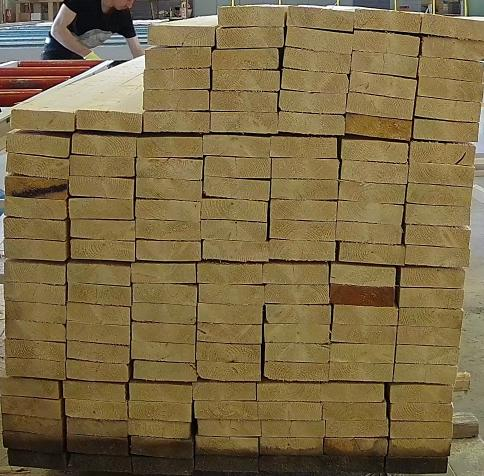Wood-Plank: (286, 27, 352, 54), (347, 93, 415, 119), (351, 72, 416, 99), (288, 5, 355, 31), (354, 30, 421, 56), (347, 114, 413, 140), (7, 129, 68, 157), (353, 51, 417, 77), (411, 141, 477, 166), (285, 47, 350, 72), (356, 8, 421, 33), (420, 76, 482, 102), (76, 109, 143, 133), (72, 133, 136, 158), (342, 139, 408, 163), (417, 97, 480, 122), (283, 68, 348, 92), (422, 14, 484, 39), (4, 218, 68, 242), (337, 221, 401, 245), (423, 36, 484, 61), (343, 161, 409, 184), (202, 199, 268, 222), (205, 156, 271, 179), (149, 23, 215, 46), (280, 91, 346, 114), (415, 118, 478, 142), (4, 260, 64, 285), (340, 242, 405, 265), (341, 181, 406, 204), (67, 262, 129, 286), (11, 108, 73, 132), (136, 158, 203, 180), (5, 196, 66, 220), (421, 57, 482, 81), (270, 239, 336, 261), (201, 220, 267, 242), (136, 178, 202, 200), (204, 178, 270, 200), (273, 158, 339, 180), (218, 6, 287, 27), (407, 227, 472, 249), (6, 155, 68, 178), (407, 246, 471, 268), (70, 239, 134, 261), (4, 240, 68, 262), (69, 177, 133, 199), (271, 200, 338, 221), (203, 137, 270, 158), (213, 48, 280, 69), (132, 303, 195, 325), (332, 265, 395, 287), (409, 184, 472, 206), (411, 164, 474, 186), (339, 202, 402, 224), (5, 177, 68, 199), (272, 137, 338, 158), (144, 112, 210, 133), (144, 90, 210, 111), (144, 68, 210, 89), (146, 48, 212, 69), (331, 286, 396, 307), (197, 263, 262, 284), (136, 200, 201, 221), (68, 198, 133, 219), (70, 156, 135, 177), (137, 136, 202, 157), (280, 113, 345, 134), (211, 112, 276, 133), (68, 284, 130, 306), (217, 28, 285, 48), (213, 70, 281, 90), (133, 361, 197, 382), (197, 343, 261, 364), (197, 323, 261, 344), (407, 206, 471, 227), (63, 381, 126, 402), (131, 342, 194, 363), (132, 324, 195, 345), (67, 324, 130, 345), (67, 305, 130, 326), (0, 378, 60, 400), (5, 302, 65, 324), (4, 284, 64, 306), (211, 91, 277, 111), (65, 400, 127, 421), (66, 362, 128, 383), (402, 268, 464, 289), (131, 264, 196, 284), (264, 264, 329, 284), (203, 242, 268, 262), (136, 241, 201, 261), (271, 222, 336, 242), (6, 340, 65, 362), (5, 321, 64, 343), (3, 432, 64, 453), (67, 436, 128, 457), (131, 438, 192, 459), (67, 343, 128, 364), (321, 383, 385, 403), (265, 285, 329, 305), (133, 285, 197, 305), (5, 359, 63, 381), (260, 456, 323, 476), (1, 399, 61, 420), (71, 221, 134, 241), (136, 221, 199, 241), (272, 180, 338, 199), (129, 403, 191, 423), (266, 306, 331, 325), (325, 439, 389, 458), (129, 384, 193, 403), (193, 383, 257, 402), (194, 402, 258, 421), (197, 363, 261, 382), (331, 344, 395, 363), (265, 325, 329, 344), (198, 305, 262, 324), (401, 289, 465, 308), (199, 286, 263, 305), (2, 416, 62, 436), (266, 344, 329, 363), (335, 307, 398, 326), (132, 457, 194, 476), (69, 457, 131, 476), (196, 438, 258, 457), (395, 365, 457, 384), (330, 363, 392, 382), (398, 327, 460, 346), (258, 404, 323, 422), (66, 418, 127, 437), (333, 327, 397, 345), (389, 440, 452, 458), (262, 421, 325, 439), (258, 384, 321, 402), (400, 310, 463, 328), (323, 458, 385, 476), (391, 422, 453, 440), (324, 403, 386, 421), (391, 404, 453, 422), (7, 451, 65, 470), (327, 420, 388, 438), (391, 386, 452, 404), (397, 348, 458, 366), (260, 439, 324, 456), (198, 421, 262, 438), (128, 422, 192, 439), (265, 364, 329, 381), (387, 458, 449, 475), (195, 458, 258, 473)
